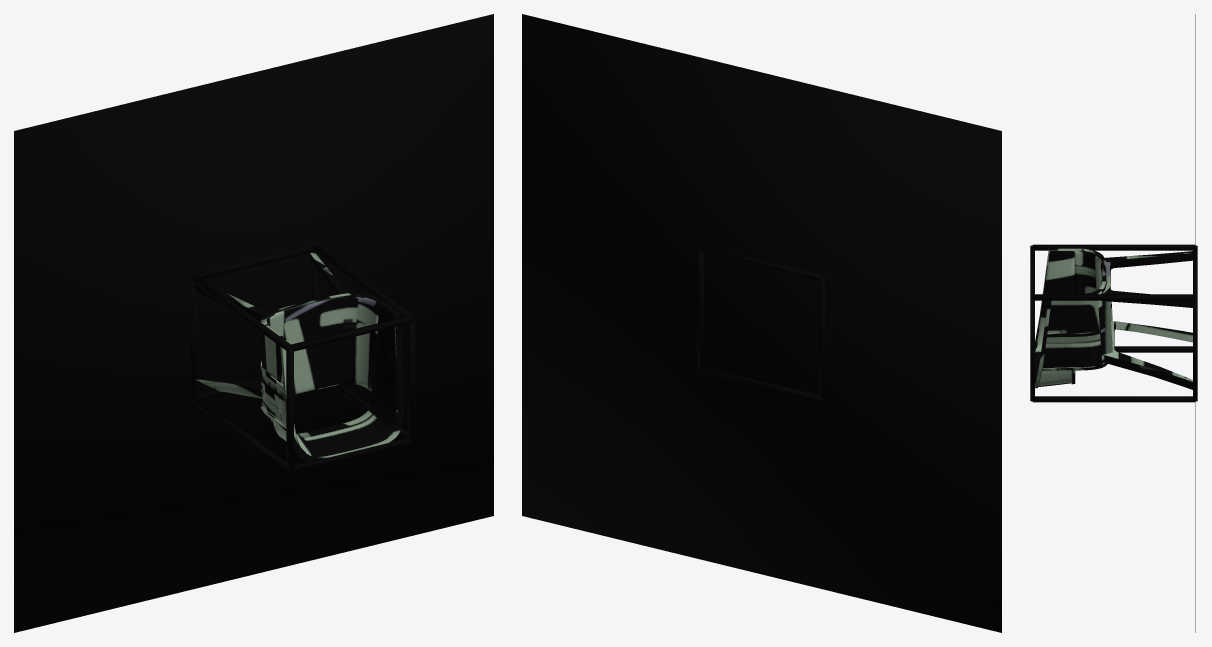
The picture shows the model from 3 angles, left to right: view 1: azimuth 30°, elevation 25°; view 2: azimuth 150°, elevation 25°; view 3: azimuth 270°, elevation 25°; orthographic projection. The views are drawn at different scales.
Size of the model in its own units: 2 by 2 by 0.7194.
